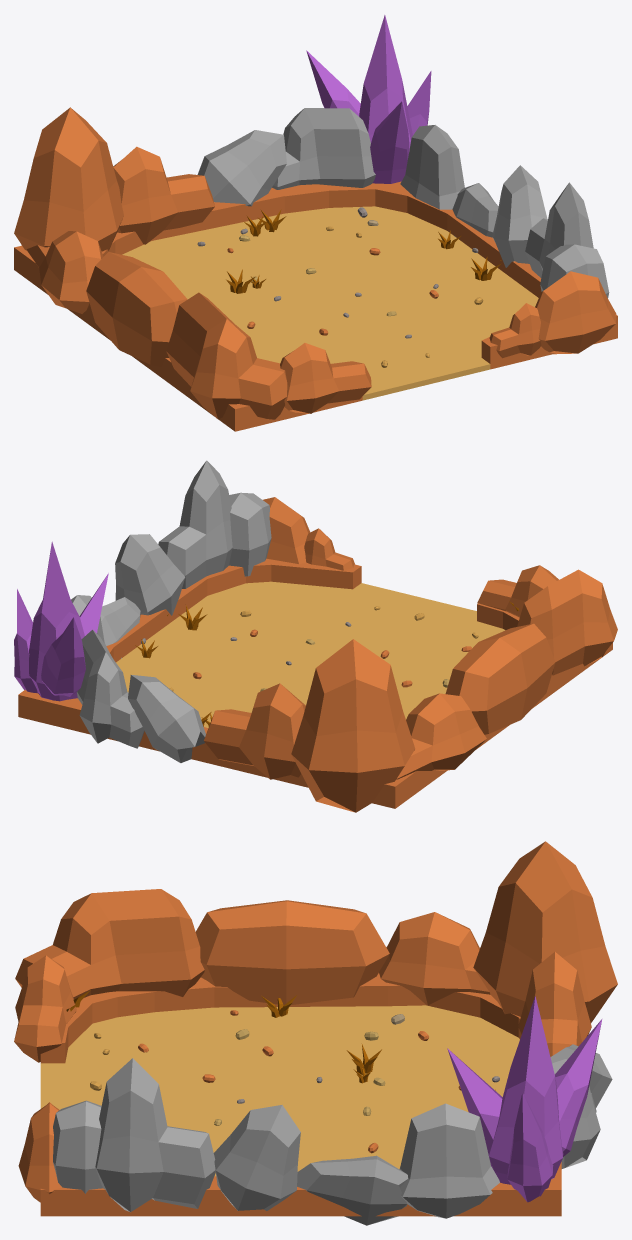
Rendered from cave level set - 1 Way (3).fbx.
3 renders of one model, top to bottom at view 1: azimuth 30°, elevation 25°; view 2: azimuth 150°, elevation 25°; view 3: azimuth 270°, elevation 25°, orthographic. The views are drawn at different scales.
Visible parts, largest first — view 1: land_platform_001, Cube_013, Cube_003, Cube_011, Cube_004, Cube_001, Cube_010, Cube_005, Cube_000, Cube_002, Cube_006, Cube_012 (+5 smaller); view 2: land_platform_001, Cube_013, Cube_011, Cube_004, Cube_003, Cube_010, Cube_009, Cube_012, Cube_001, Cube_000, Cube_015, Cube_008 (+4 smaller); view 3: land_platform_001, Cube_004, Cube_013, Cube_011, Cube_003, Cube_009, Cube_006, Cube_015, Cube_012, Cube_014, Cube_002, Cube_010 (+4 smaller).
Part boxes in pixels (box(x1,y1,x2,y2)): land_platform_001: box(14, 181, 617, 431); Cube_013: box(14, 107, 123, 251); Cube_003: box(166, 292, 287, 419); Cube_011: box(306, 15, 431, 183); Cube_004: box(86, 252, 187, 366); Cube_001: box(272, 108, 375, 189); Cube_010: box(113, 146, 214, 244); Cube_005: box(535, 271, 616, 354); Cube_000: box(197, 130, 286, 206); Cube_002: box(280, 343, 371, 413); Cube_006: box(400, 125, 464, 209); Cube_012: box(26, 231, 103, 313); land_platform_001: box(18, 558, 612, 808); Cube_013: box(291, 639, 415, 812); Cube_011: box(14, 541, 108, 701); Cube_004: box(445, 623, 555, 734); Cube_003: box(517, 569, 617, 675); Cube_010: box(204, 683, 305, 779); Cube_009: box(158, 460, 232, 588); Cube_012: box(396, 693, 486, 779); Cube_001: box(77, 629, 144, 748); Cube_000: box(128, 675, 205, 762); Cube_015: box(115, 534, 185, 615); Cube_008: box(229, 492, 271, 576); land_platform_001: box(40, 973, 561, 1216); Cube_004: box(195, 900, 389, 1005); Cube_013: box(473, 841, 617, 1022); Cube_011: box(447, 996, 602, 1202); Cube_003: box(15, 889, 204, 999); Cube_009: box(95, 1058, 215, 1212); Cube_006: box(399, 1103, 499, 1218); Cube_015: box(213, 1105, 300, 1210); Cube_012: box(379, 912, 490, 1005); Cube_014: box(297, 1155, 407, 1225); Cube_002: box(14, 955, 76, 1062); Cube_010: box(518, 952, 591, 1056).
Bounding box in the file's own units: 16.94 × 7.16 × 17.59.
